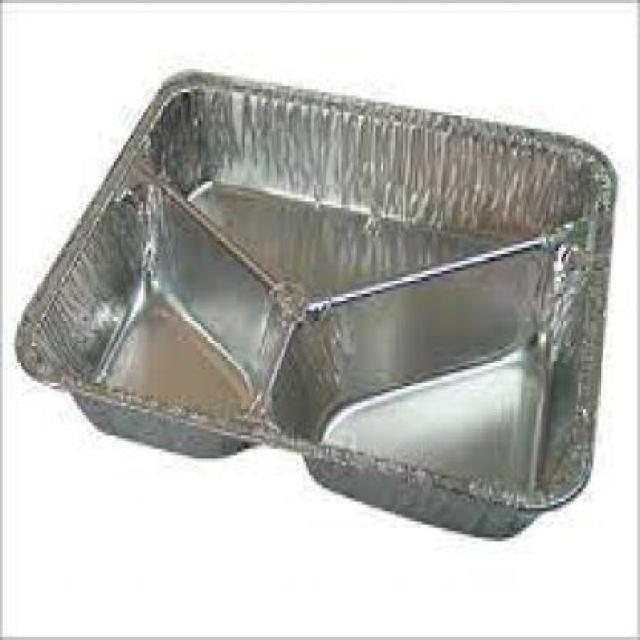METAL: (9, 65, 616, 538)
